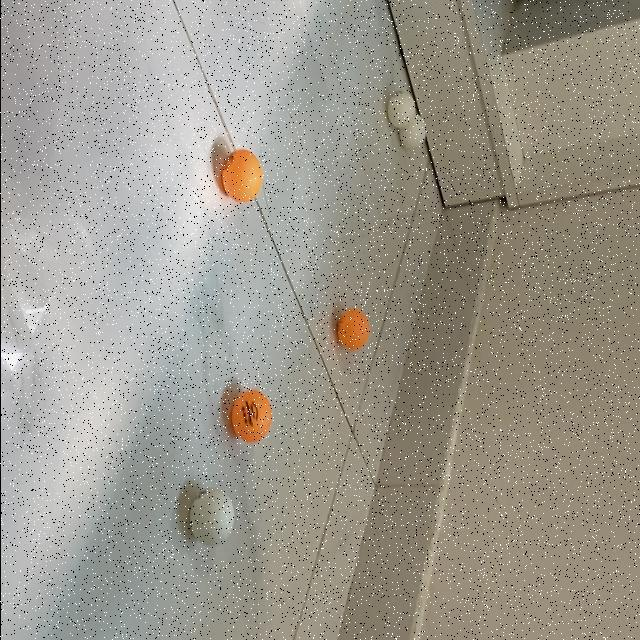ping-pong-ball: (188, 488, 234, 548), (220, 149, 264, 205), (230, 390, 272, 446), (336, 309, 371, 353), (396, 112, 426, 151), (386, 91, 416, 129)
